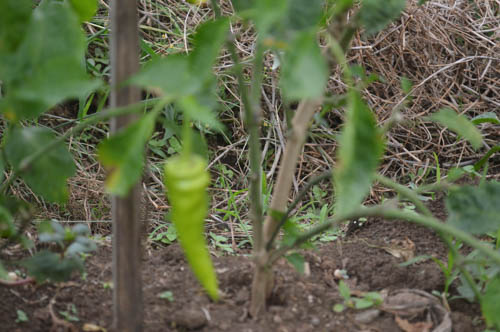ChiliPepper: (167, 159, 224, 302)
